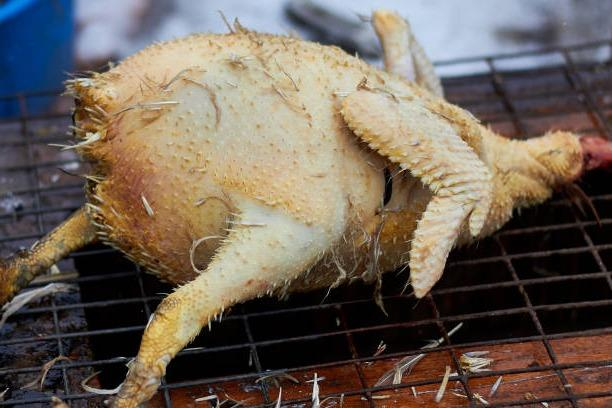AbNormal: (2, 12, 604, 408)
